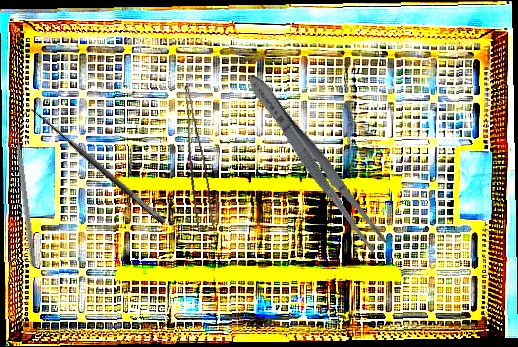Chopper: (13, 121, 44, 268)
Dressing Forceps: (240, 68, 392, 257)
Hook Surgical: (19, 102, 168, 236)
Tissue Forceps: (168, 85, 219, 232)
